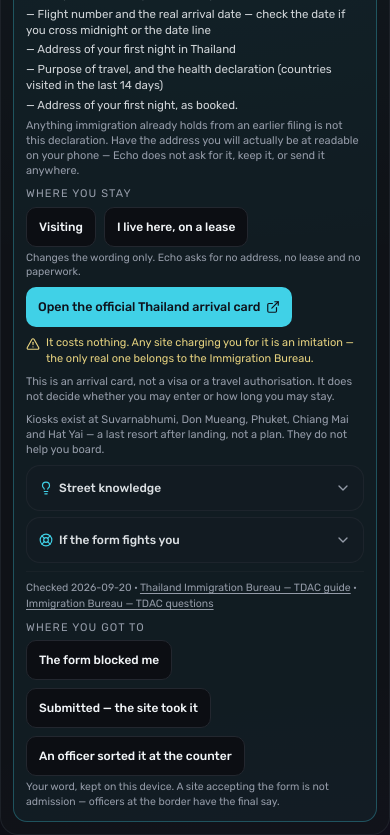
the border card, live › keeps the card open when the form blocked you, and says nothing is filed
(page scrolled)
Click the button "The form blocked me". click: click(99, 660)
box: 26,640 -> 172,680
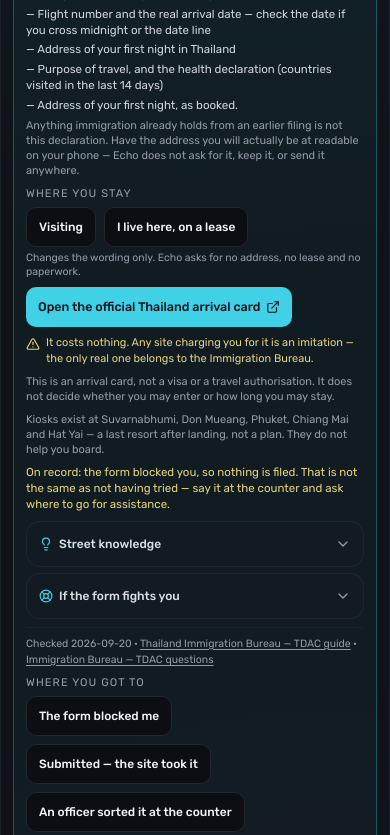
Expected: the link "Open the official Thailand arrival card" is shown, 26,287 -> 292,327
Expected: the text "nothing is filed" is shown, 26,465 -> 357,511
